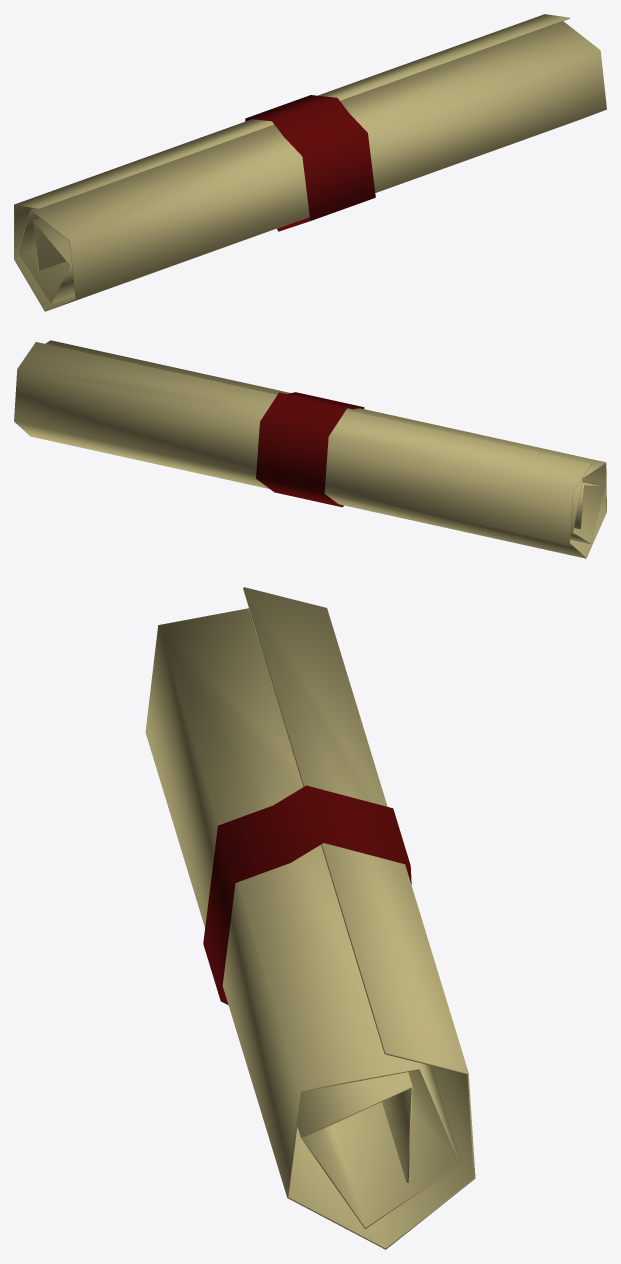
File: diploma.fbx
3 views of the same model, one above another, from view 1: azimuth 30°, elevation 25°; view 2: azimuth 150°, elevation 25°; view 3: azimuth 270°, elevation 25° (orthographic). The views are drawn at different scales.
Parts seen in each view (by area): view 1: group_0, ID12; view 2: group_0, ID12; view 3: group_0, ID12.
Part boxes in pixels (bbox=[...]): group_0: bbox=[14, 14, 606, 311]; ID12: bbox=[245, 95, 375, 231]; group_0: bbox=[14, 340, 606, 558]; ID12: bbox=[256, 392, 364, 507]; group_0: bbox=[145, 587, 475, 1249]; ID12: bbox=[203, 785, 411, 1004].
Bounding box in the file's own units: 35185 × 9456 × 7409.
